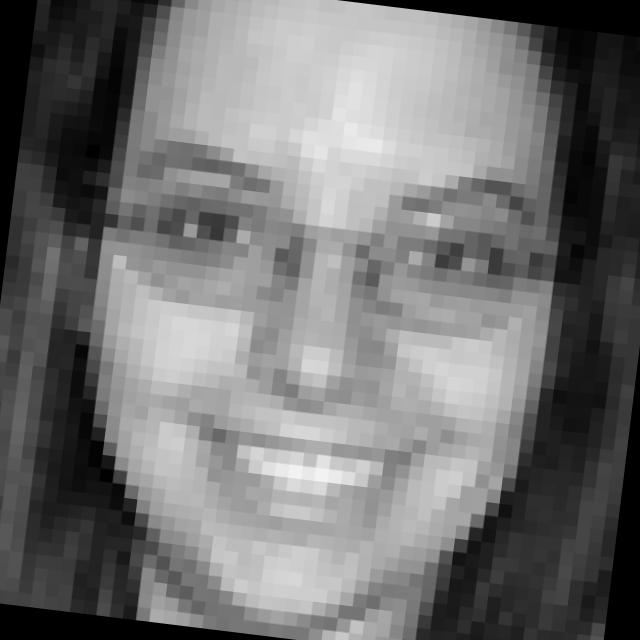happy: (83, 122, 544, 566)
